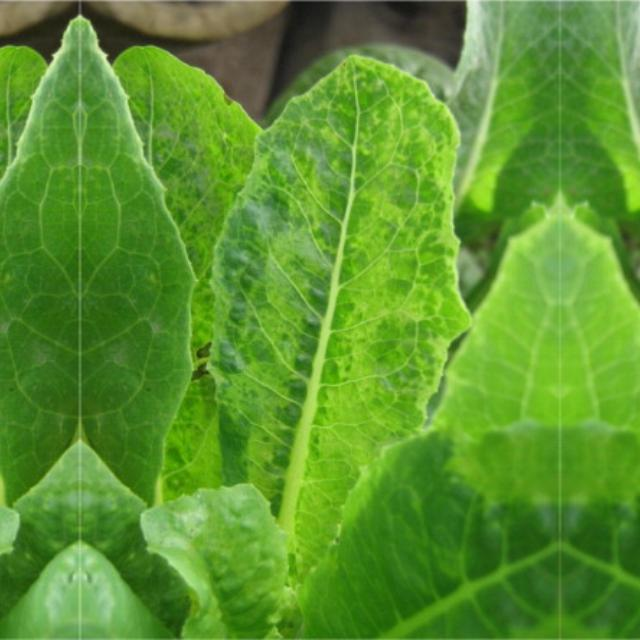lettuce mosaic virus: (165, 72, 471, 598)
